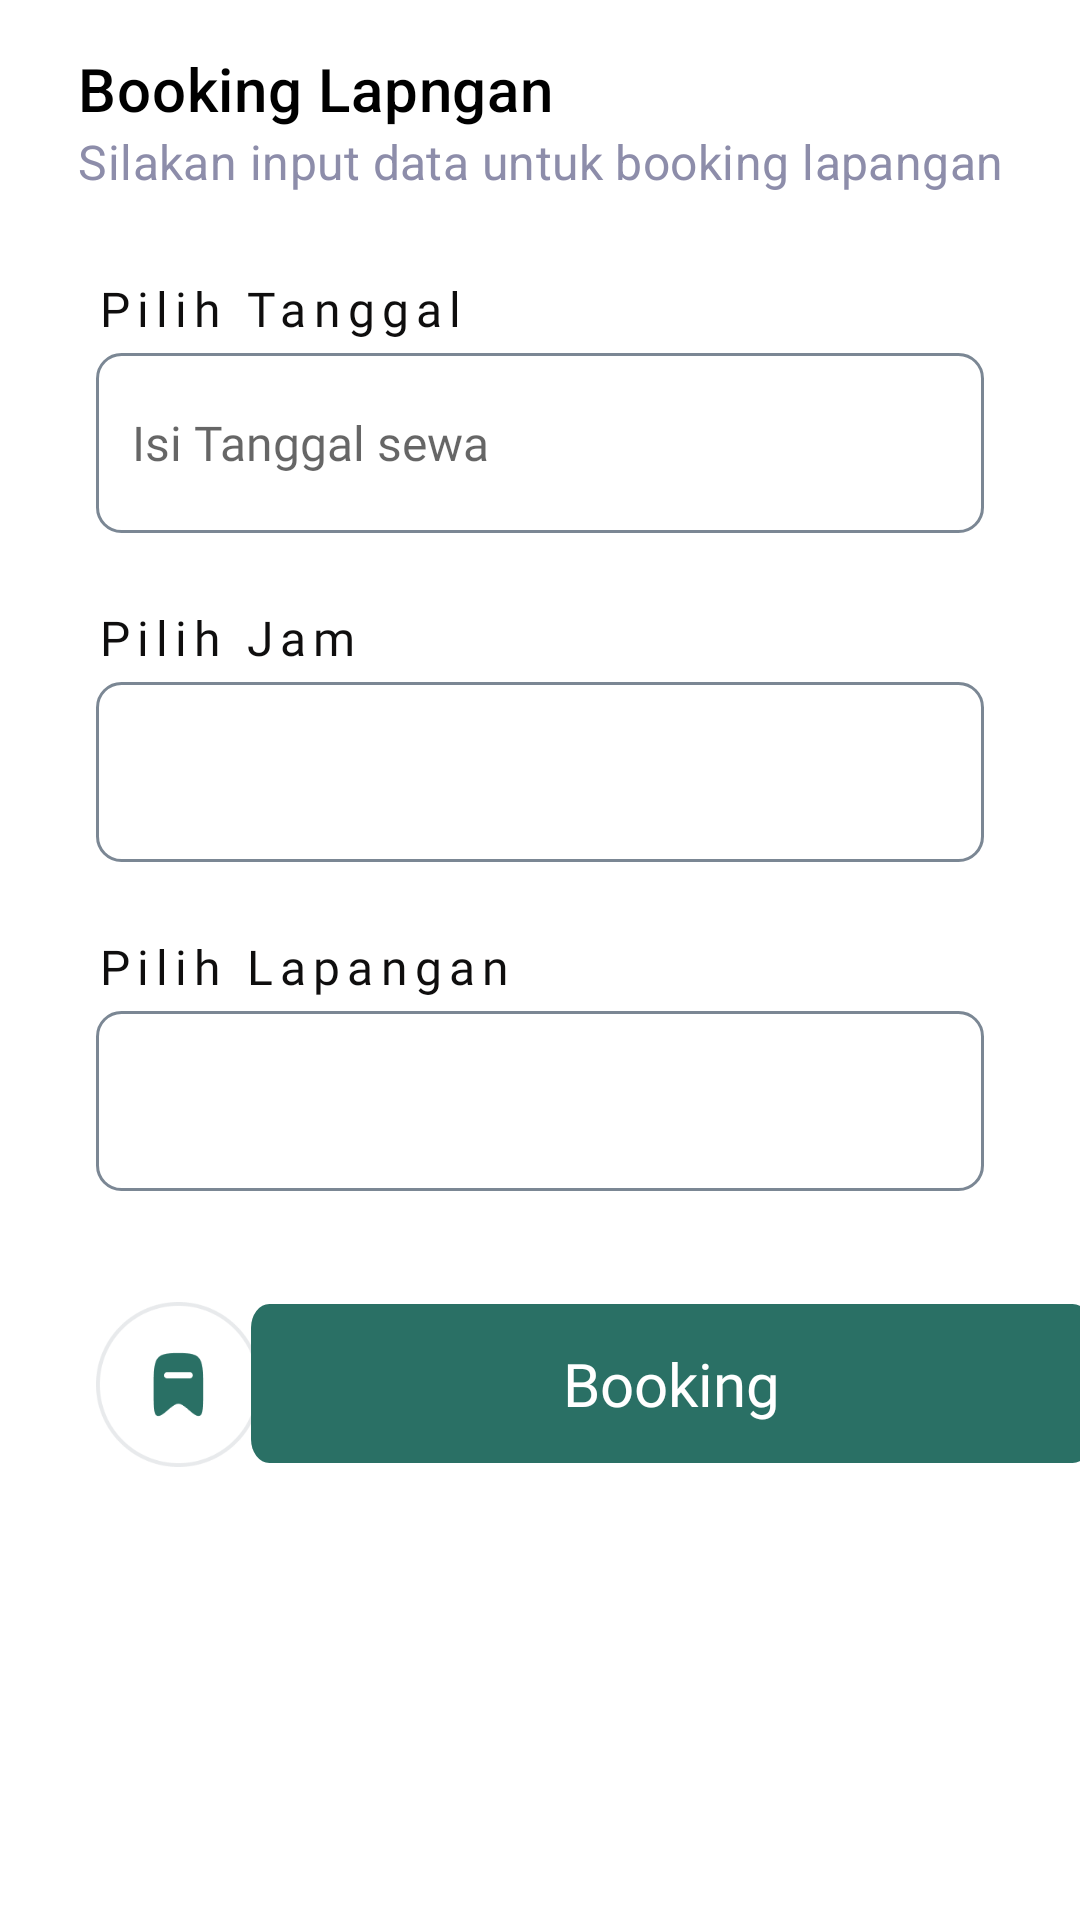

Point at icon controls on the screen. Image size 1080w x 1920h, points as [x,y].
bookmark: [178,1384]
